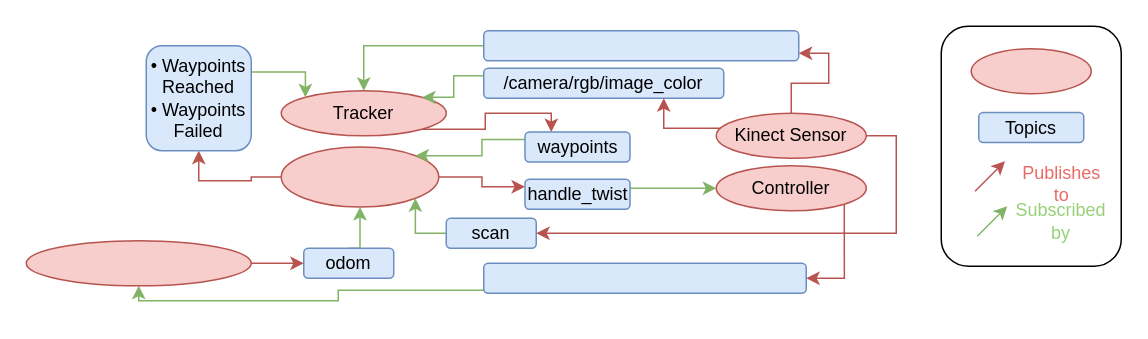
Image size: 1148x339. Some labels were removed from this diagram. Here are the shapes that lost their labels. From the top down, the centre of each, then its label:
the point at 640,45: /camera/depth_registered/image_raw
the point at 1030,70: Nodes
the point at 359,176: Obstacle Avoidance
the point at 138,262: Robot (iRobot:- Rumba)
the point at 644,277: mobile_base/commands/velocity
